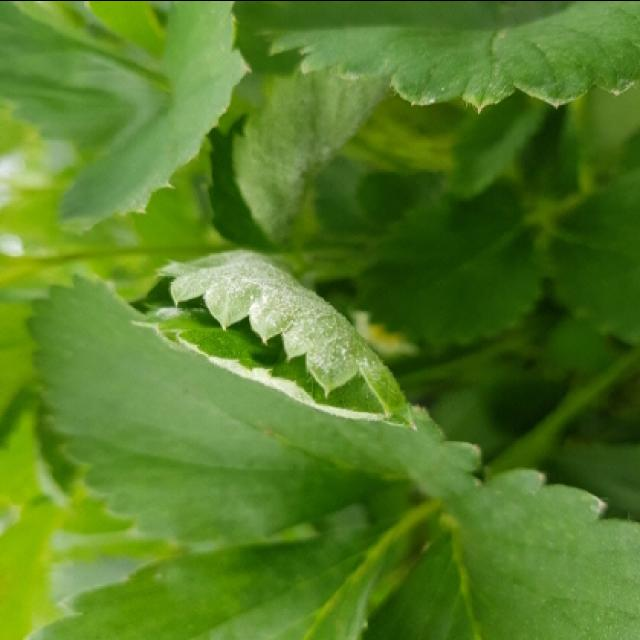Powdery Mildew Leaf: (127, 246, 419, 431)
